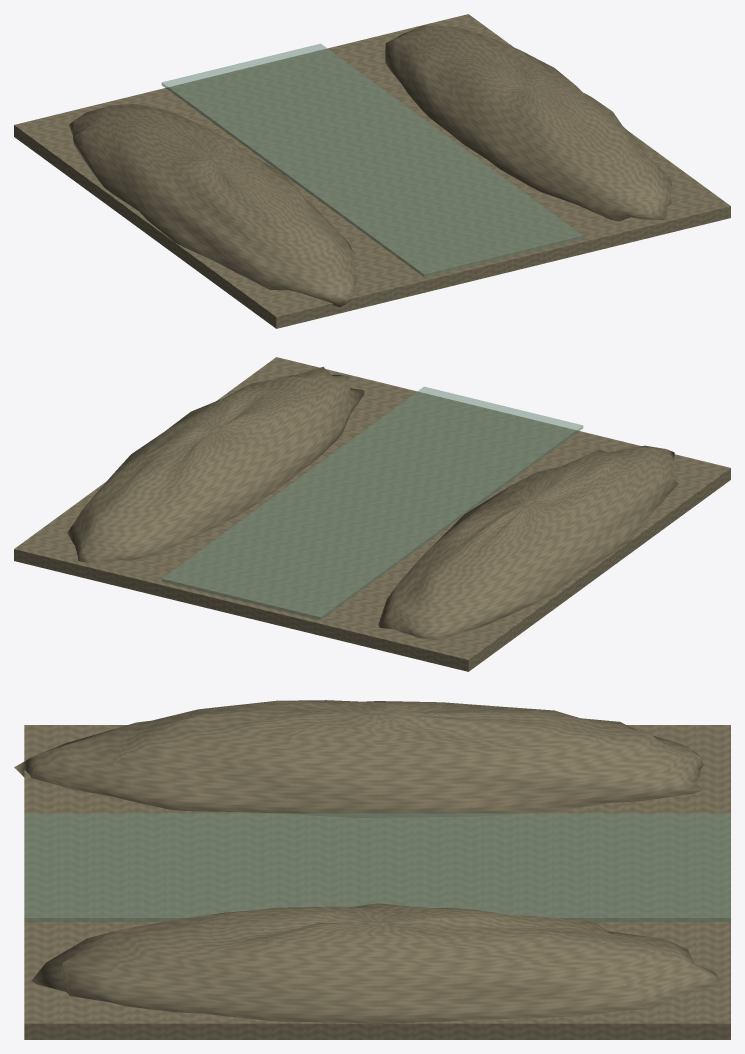
Rendered from swamp_channel_straight_swamp_and_mangrove_22644.glb.
The picture shows the model from 3 angles, top to bottom: view 1: azimuth 30°, elevation 25°; view 2: azimuth 150°, elevation 25°; view 3: azimuth 270°, elevation 25°; orthographic projection. The views are drawn at different scales.
Visible parts, largest first — view 1: channel-straight; view 2: channel-straight; view 3: channel-straight.
Boxes of the visible parts, bbox=[...] form: channel-straight: bbox=[14, 14, 730, 328]; channel-straight: bbox=[14, 357, 730, 671]; channel-straight: bbox=[14, 700, 730, 1039].
Bounding box in the file's own units: 4 × 0.4754 × 4.06.
Materials: 2 (1 with a texture image).
